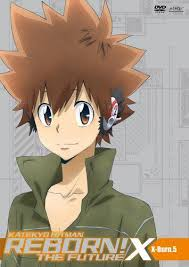Tsuna: (21, 26, 136, 160)
